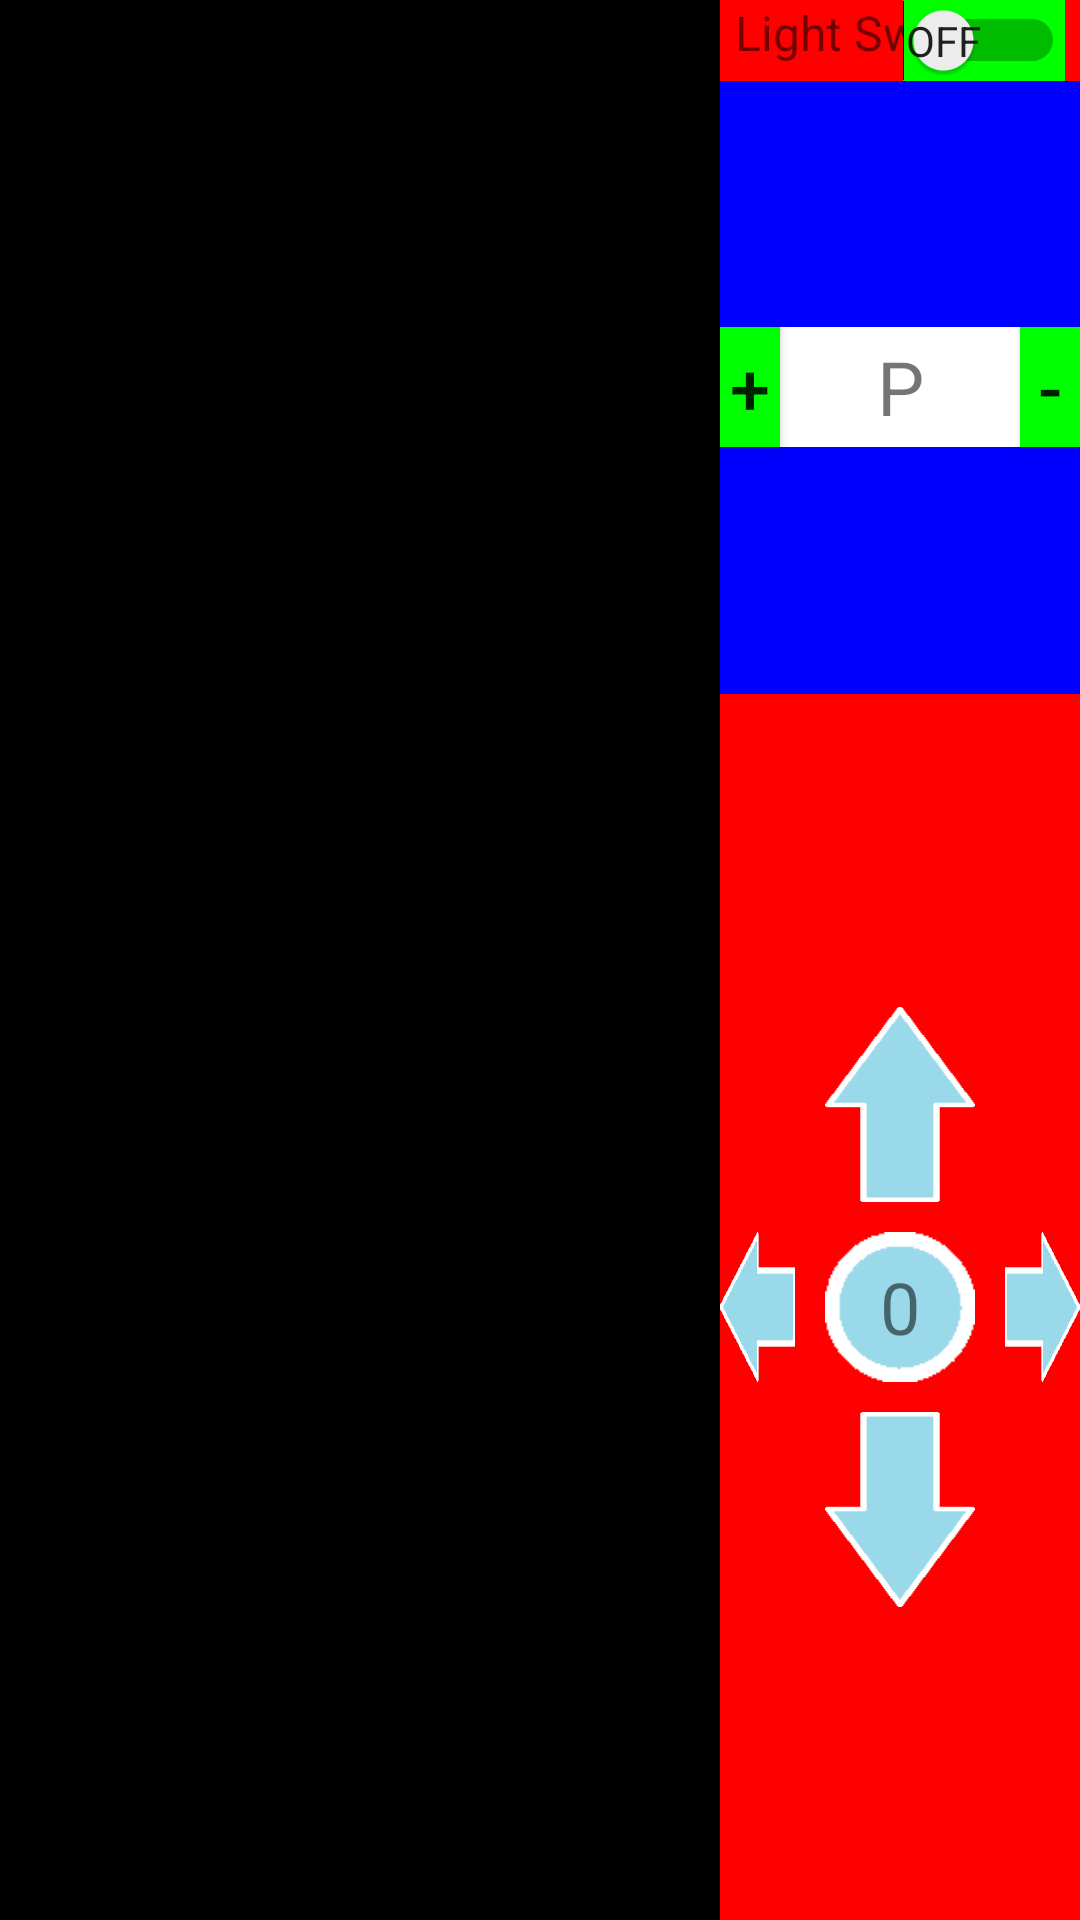

Icon bounding boxes for this 1080*1920 phone screenshot, format (x1, y1, x2, y2):
arrow down: (825, 1412, 975, 1607)
arrow left: (720, 1232, 795, 1382)
arrow right: (1005, 1232, 1080, 1382)
arrow up: (825, 1007, 975, 1202)
